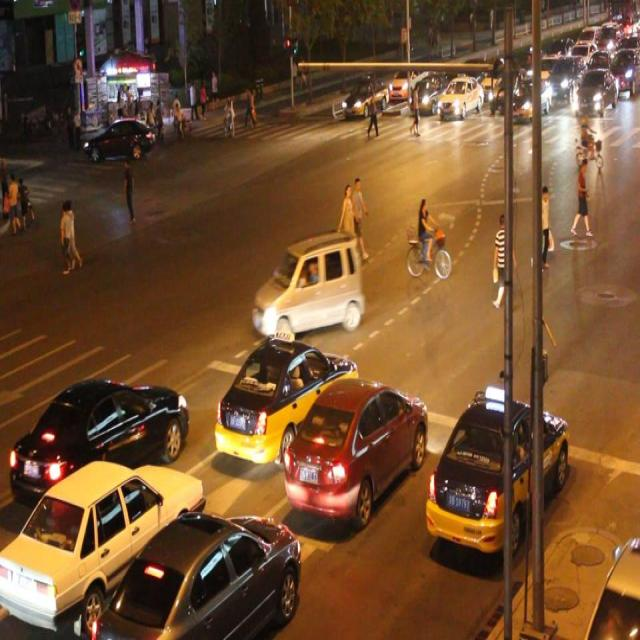car: (1, 458, 206, 628), (93, 509, 301, 640), (8, 374, 190, 502), (426, 393, 566, 552), (284, 378, 426, 520), (214, 336, 357, 465), (251, 236, 362, 336), (581, 535, 639, 640), (84, 118, 154, 162), (436, 76, 482, 118), (343, 74, 387, 117), (409, 71, 445, 112)
